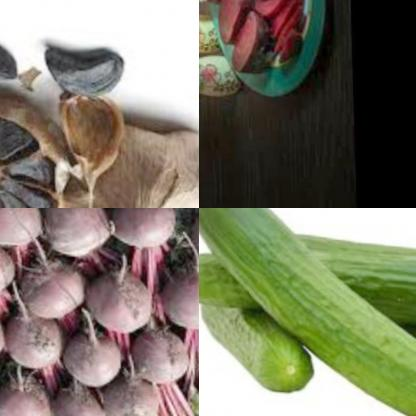beet: (86, 260, 157, 336), (20, 246, 89, 321), (62, 319, 124, 395), (0, 302, 70, 369), (154, 246, 199, 329), (132, 324, 196, 382), (101, 359, 163, 416), (252, 0, 302, 66), (44, 208, 113, 255), (107, 208, 181, 247), (227, 6, 267, 78), (47, 374, 114, 416), (0, 373, 52, 416), (0, 208, 49, 248), (0, 228, 24, 304), (210, 0, 250, 41)
cucumber: (199, 208, 416, 411), (199, 234, 416, 325), (199, 291, 328, 397), (263, 209, 416, 295)
garlic: (63, 107, 199, 208), (0, 88, 92, 208), (33, 37, 122, 109)
